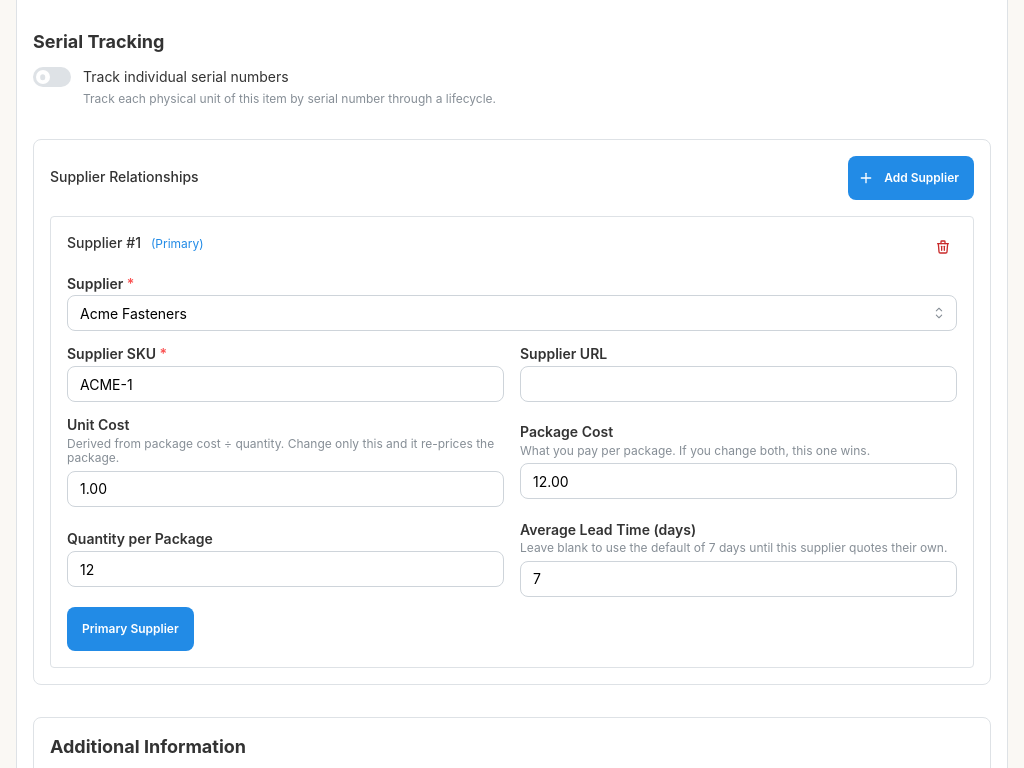
Test: InventoryItemFormPage — supplier relationships › reports a bare DRF field error too, for endpoints not on the envelope yet
(page scrolled)
Type "not-a-url" into the field labelled "Supplier URL" at (738, 384), box top-left (520, 366), bottom-right (957, 402)
(page scrolled)
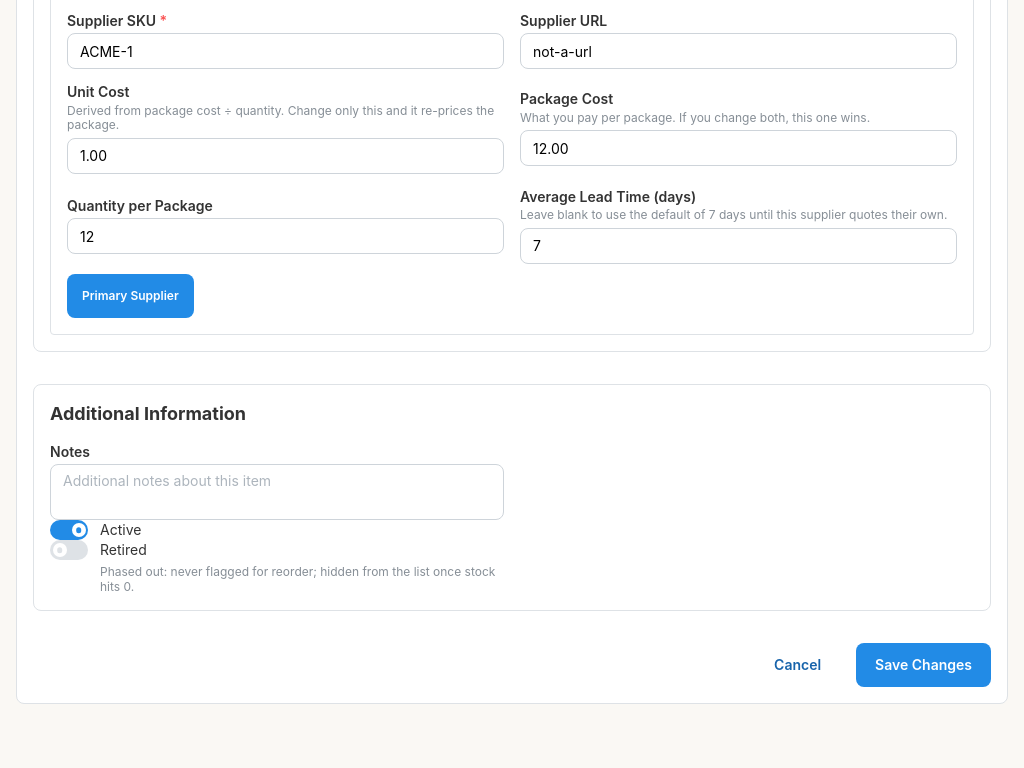
Click the button "Save Changes" at (924, 665), box top-left (856, 643), bottom-right (991, 687)
(page scrolled)
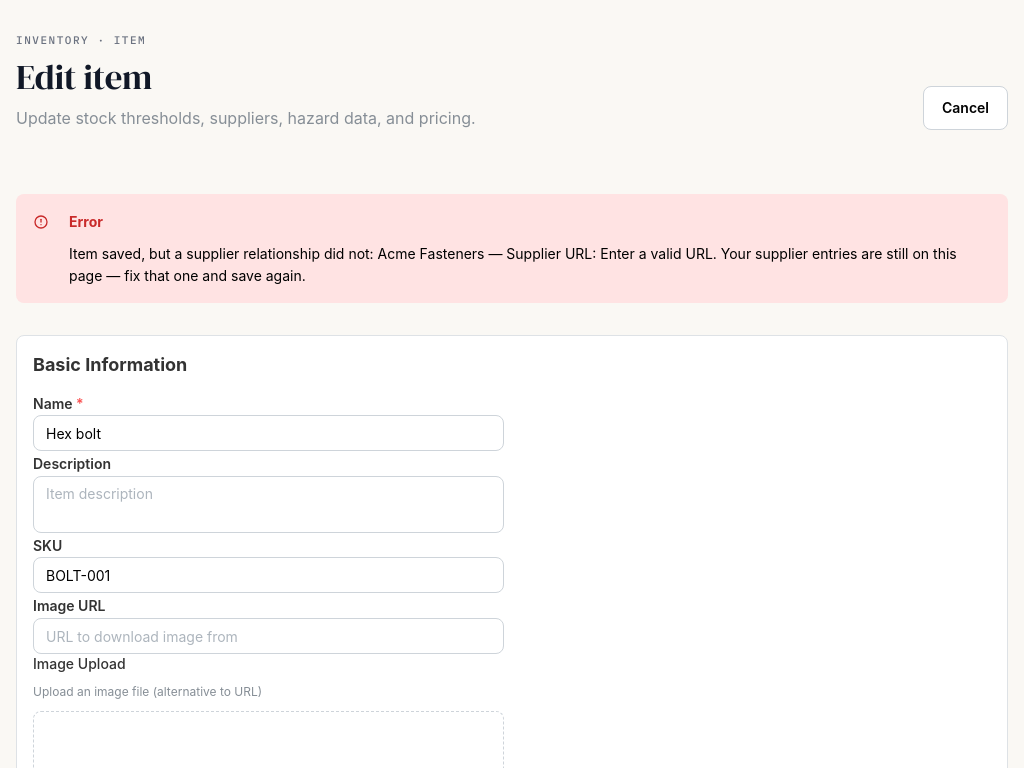
Check: the text "Acme Fasteners — Supplier URL: Enter a valid URL." is shown, box top-left (69, 245), bottom-right (957, 284)
